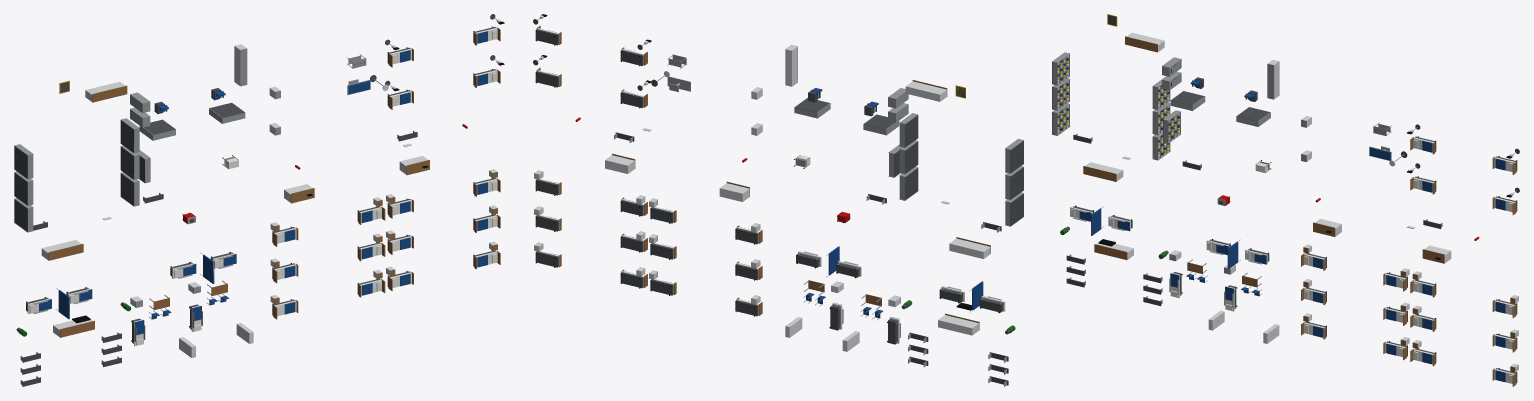
The model's file is hospital_mobiliario.obj.
3 views of the same model, side by side, from view 1: azimuth 30°, elevation 25°; view 2: azimuth 150°, elevation 25°; view 3: azimuth 330°, elevation 25° (orthographic). The views are drawn at different scales.
Parts seen in each view (by area): view 1: balcao_2, balcao_3, estante_3, estante_6, bancada_1, estante_8, estante_1, estante_2, estante_4, estante_5, balcao_1, estante_7 (+2 smaller); view 2: balcao_3, balcao_2, balcao_1, estante_6, estante_3, estante_4, estante_5, bancada_1, estante_1, estante_2, estante_8, estante_7 (+2 smaller); view 3: balcao_2, balcao_3, estante_7, estante_3, bancada_1, estante_8, estante_9, balcao_1, estante_1, estante_2, posto_enfermagem_2, estante_6 (+1 smaller).
Boxes of the visible parts, <box> form: balcao_2: <box>41,240,83,260</box>; balcao_3: <box>85,81,127,102</box>; estante_3: <box>14,144,33,179</box>; estante_6: <box>120,118,139,153</box>; bancada_1: <box>234,44,247,86</box>; estante_8: <box>209,102,245,123</box>; estante_1: <box>14,198,33,232</box>; estante_2: <box>14,171,33,205</box>; estante_4: <box>120,172,139,206</box>; estante_5: <box>120,145,139,179</box>; balcao_1: <box>53,319,94,337</box>; estante_7: <box>139,119,175,140</box>; balcao_3: <box>905,80,947,101</box>; balcao_2: <box>949,237,990,258</box>; balcao_1: <box>938,313,979,335</box>; estante_6: <box>899,113,918,147</box>; estante_3: <box>1005,138,1023,173</box>; estante_4: <box>899,166,918,200</box>; estante_5: <box>899,140,918,174</box>; bancada_1: <box>785,45,797,86</box>; estante_1: <box>1005,192,1023,226</box>; estante_2: <box>1005,166,1023,200</box>; estante_8: <box>794,97,830,118</box>; estante_7: <box>863,114,899,135</box>; balcao_2: <box>1083,162,1123,181</box>; balcao_3: <box>1125,32,1164,52</box>; estante_7: <box>1170,91,1205,110</box>; estante_3: <box>1052,52,1069,85</box>; bancada_1: <box>1267,59,1279,99</box>; estante_8: <box>1236,107,1270,126</box>; estante_9: <box>1163,110,1180,143</box>; balcao_1: <box>1094,242,1133,259</box>; estante_1: <box>1052,103,1070,135</box>; estante_2: <box>1052,78,1069,110</box>; posto_enfermagem_2: <box>1422,245,1451,263</box>; estante_6: <box>1152,77,1170,109</box>.
Size of the model in its own units: 41.62 by 24.4 by 2.2.
